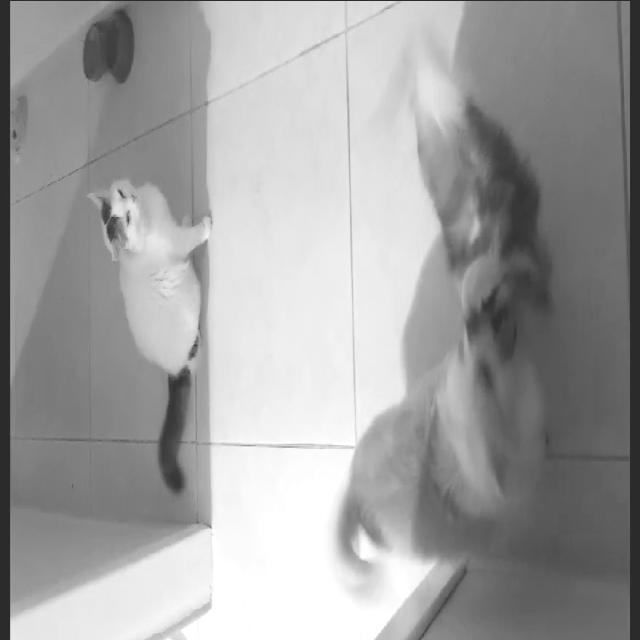Pedrita: (411, 34, 556, 372)
